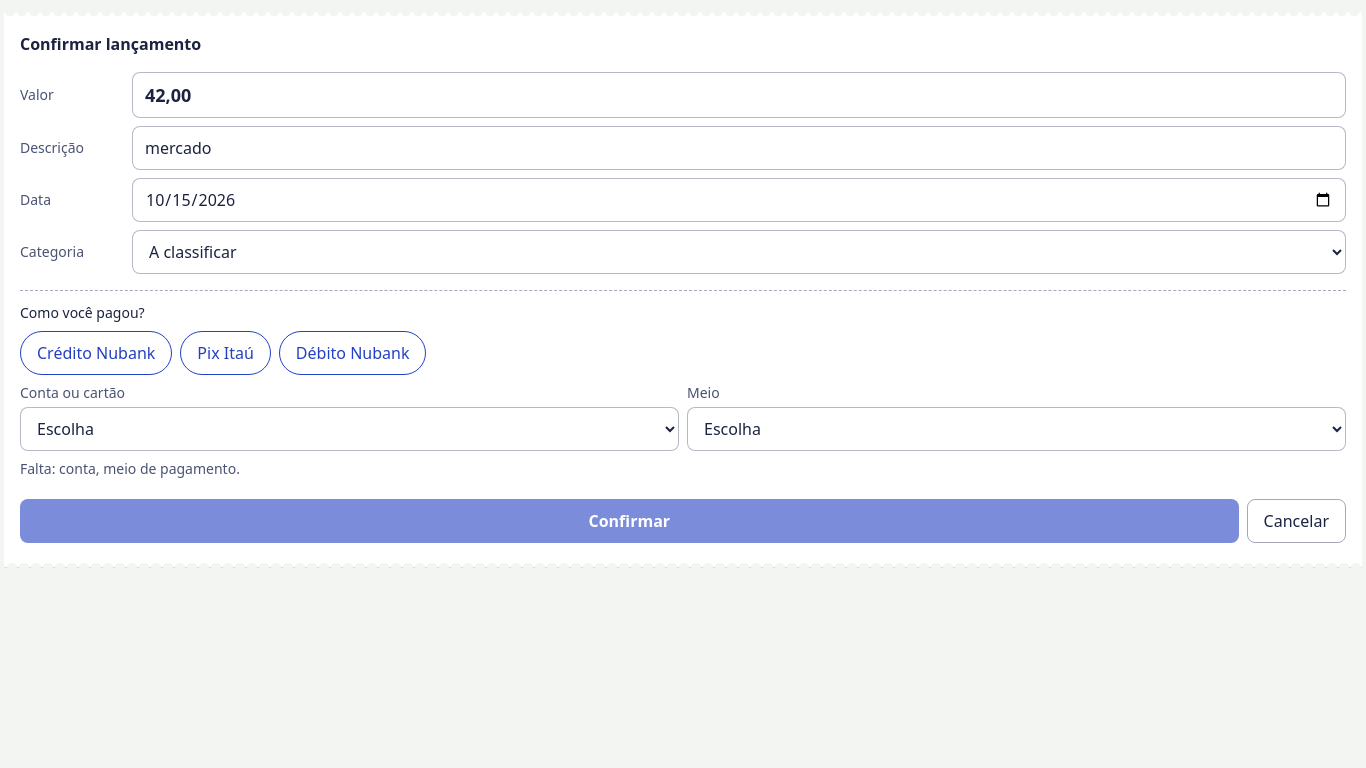
Test: confirm stays disabled until payment is chosen
Expected: the button "Confirmar" is disabled, x1=20 y1=499 x2=1239 y2=543
Click the button "Pix Itaú" at (226, 353), box x1=180 y1=331 x2=271 y2=375
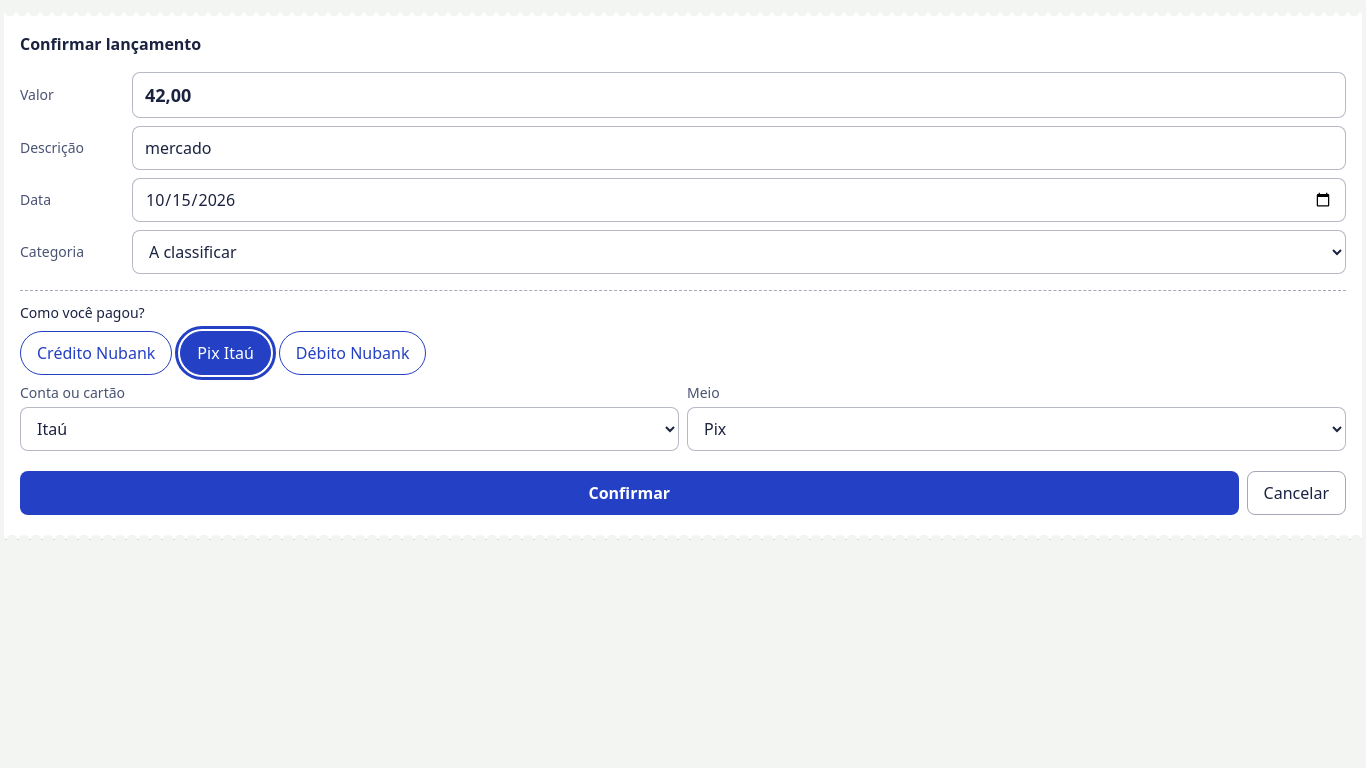
Expected: the button "Confirmar" is enabled, x1=20 y1=471 x2=1239 y2=515
